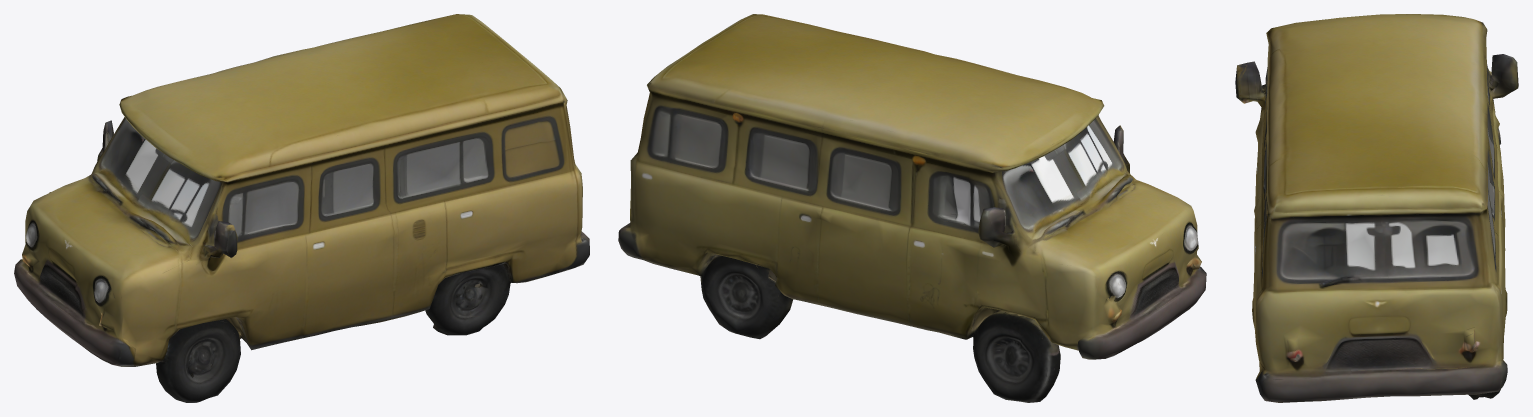
File: furgon.glb
3 views of the same model, side by side, from view 1: azimuth 30°, elevation 25°; view 2: azimuth 150°, elevation 25°; view 3: azimuth 270°, elevation 25° (orthographic). The views are drawn at different scales.
Size of the model in its own units: 2.01 by 0.9575 by 0.9437.
1 material, 1 textured.
